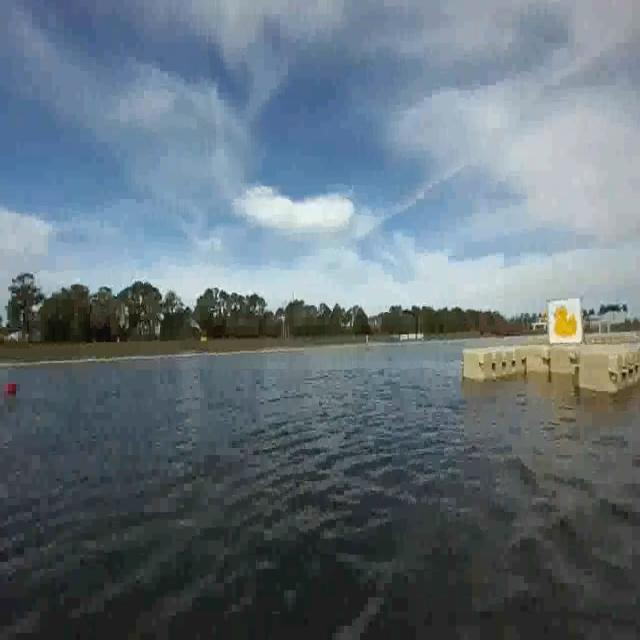yellow-duck: (549, 301, 581, 346)
